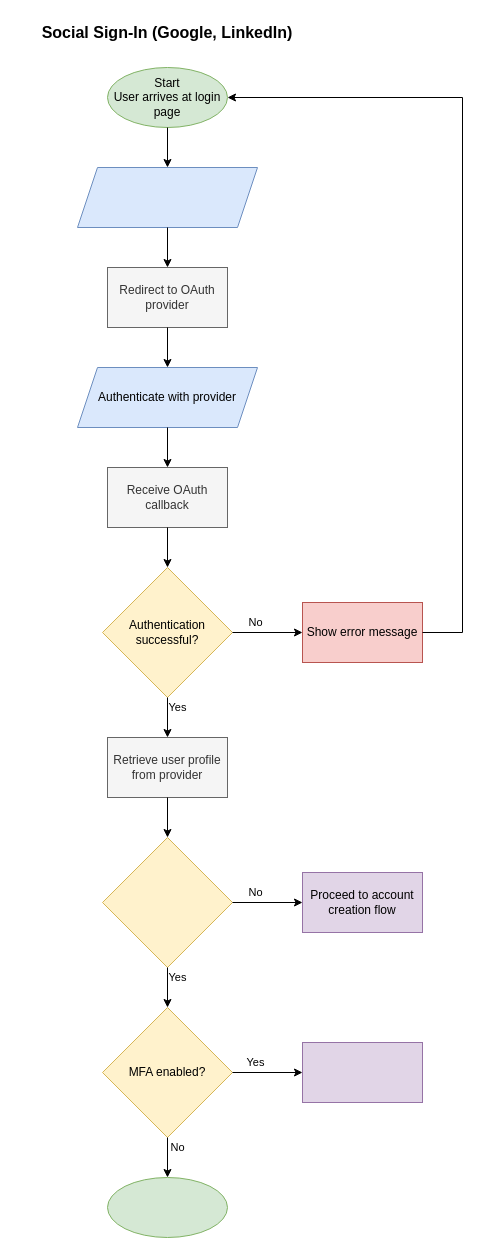
Some shapes in this 488 by 1255 pixel diagram are drawn without their labels. Here are the shapes that lost their labels. From the top down, the box of each, then its label:
(76, 166, 258, 228): Click on social sign-in option
(102, 836, 232, 968): Email exists in our system?
(302, 1042, 422, 1102): Proceed to MFA flow
(106, 1176, 228, 1238): End User logged in successfully
